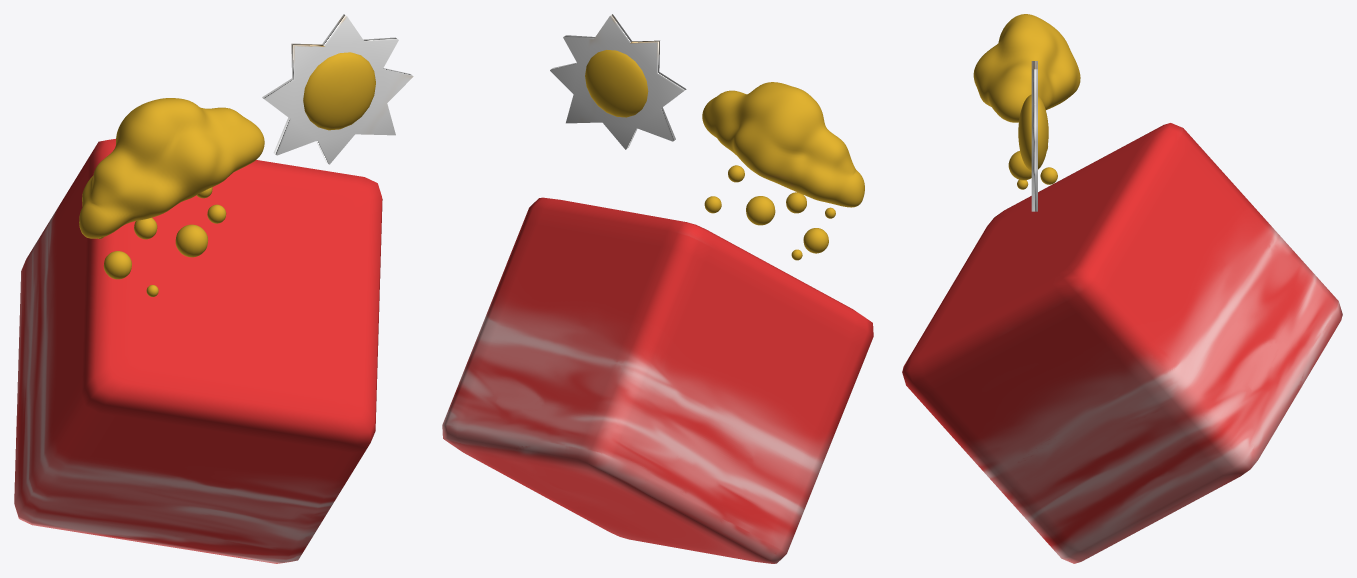
File: planetD.gltf
3 views of the same model, side by side, from view 1: azimuth 30°, elevation 25°; view 2: azimuth 150°, elevation 25°; view 3: azimuth 270°, elevation 25° (orthographic). The views are drawn at different scales.
Visible parts, largest first — view 1: planetD; view 2: planetD; view 3: planetD.
Boxes of the visible parts, box(x1,y1,x2,y2) form: planetD: box(14, 14, 413, 563); planetD: box(442, 14, 873, 563); planetD: box(902, 14, 1342, 563).
Bounding box in the file's own units: 3.84 × 5.87 × 4.6.
1 material, 1 textured.
